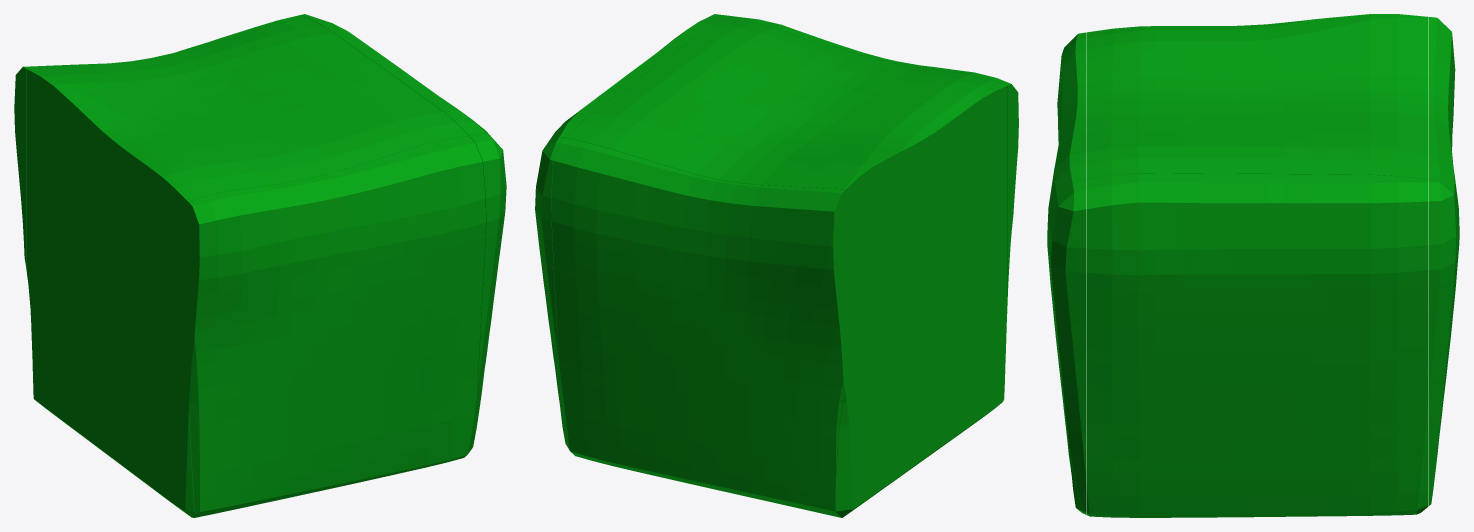
The model's file is 4by10beveledsubdivided.025.fbx.
The picture shows the model from 3 angles, left to right: view 1: azimuth 30°, elevation 25°; view 2: azimuth 150°, elevation 25°; view 3: azimuth 270°, elevation 25°; orthographic projection. The views are drawn at different scales.
Visible parts, largest first — view 1: 4by10beveledsubdivided.025; view 2: 4by10beveledsubdivided.025; view 3: 4by10beveledsubdivided.025.
Boxes of the visible parts, x1,y1,x2,y2 form: 4by10beveledsubdivided.025: (14, 14, 506, 517); 4by10beveledsubdivided.025: (535, 14, 1018, 517); 4by10beveledsubdivided.025: (1047, 14, 1459, 517).
Size of the model in its own units: 225 by 231 by 241.
